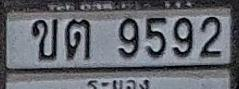2: (200, 16, 220, 56)
5: (146, 16, 166, 58)
9: (173, 17, 193, 57), (119, 16, 138, 58)
A02: (31, 18, 58, 60)
A21: (66, 18, 90, 60)
RYG: (85, 77, 154, 89)
